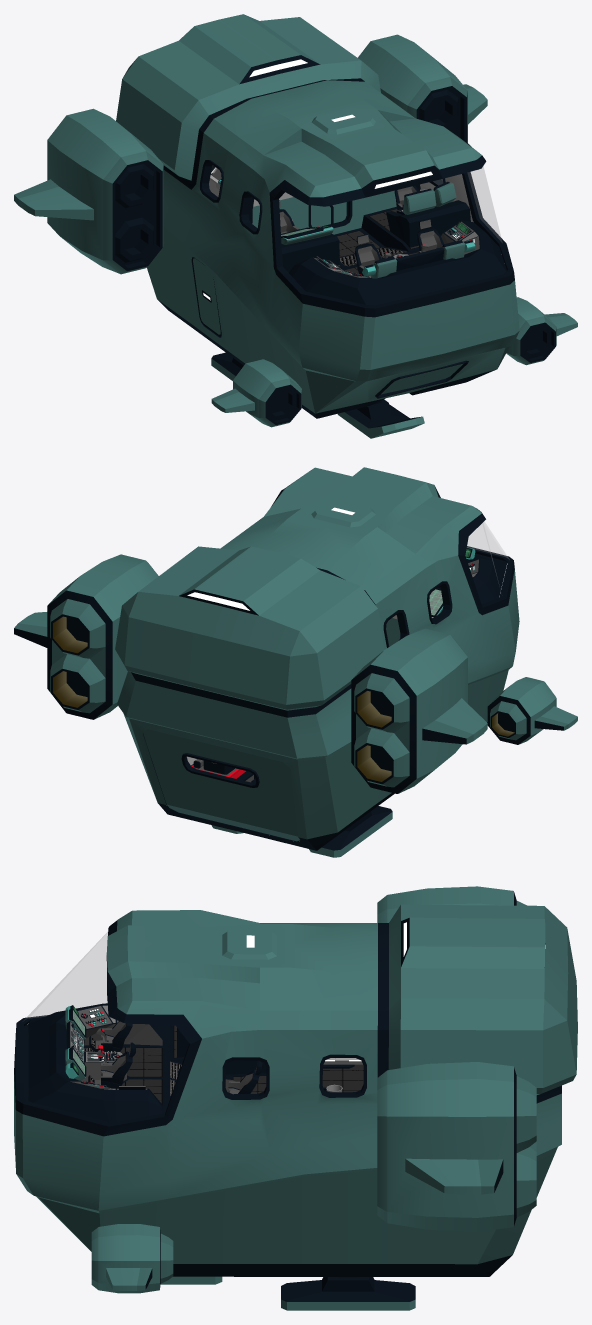
Rendered from zamboni-ship.glb.
The picture shows the model from 3 angles, top to bottom: view 1: azimuth 30°, elevation 25°; view 2: azimuth 150°, elevation 25°; view 3: azimuth 270°, elevation 25°; orthographic projection. The views are drawn at different scales.
Parts seen in each view (by area): view 1: Hull_Merged, Turbine Right, Dashboard Body, Turbine Left, Turbine.002, Dashboard Body.002, Turbine.001, Cube.002, Dashboard, Landing Gear Front, Side Door, Top Hatch Upper (+6 smaller); view 2: Hull_Merged, Turbine Right, Turbine Left, Cargo Ramp, Turbine.002, Landing Gear Back Right, Dashboard Body, Top Hatch Upper, Windshield; view 3: Hull_Merged, Turbine Left, Dashboard Body, Turbine.001, Landing Gear Back Left, Windshield, Turbine Right, Dashboard, Top Hatch Upper, Floor Top.001, Seat back left.
Part boxes in pixels (x1,y1,x2,y2): Hull_Merged: (116, 14, 519, 418); Turbine Right: (14, 108, 163, 274); Dashboard Body: (289, 207, 506, 305); Turbine Left: (358, 34, 487, 180); Turbine.002: (211, 359, 301, 427); Dashboard Body.002: (281, 186, 470, 272); Turbine.001: (506, 297, 577, 365); Cube.002: (248, 184, 420, 234); Dashboard: (316, 221, 475, 278); Landing Gear Front: (337, 399, 424, 438); Side Door: (192, 257, 221, 336); Top Hatch Upper: (311, 108, 375, 134); Hull_Merged: (115, 467, 519, 850); Turbine Right: (351, 628, 487, 793); Turbine Left: (14, 554, 158, 719); Cargo Ramp: (143, 729, 299, 841); Turbine.002: (487, 677, 577, 744); Landing Gear Back Right: (309, 806, 392, 857); Dashboard Body: (466, 553, 507, 604); Top Hatch Upper: (311, 500, 375, 527); Windshield: (467, 521, 509, 571); Hull_Merged: (14, 904, 577, 1276); Turbine Left: (377, 1062, 536, 1231); Dashboard Body: (23, 1003, 266, 1122); Turbine.001: (91, 1224, 173, 1293); Landing Gear Back Left: (281, 1277, 415, 1310); Windshield: (24, 932, 107, 1020); Turbine Right: (377, 886, 526, 922); Dashboard: (65, 1005, 145, 1089); Top Hatch Upper: (222, 928, 276, 959); Floor Top.001: (322, 1064, 363, 1092); Seat back left: (101, 1042, 135, 1084).
Bounding box in the file's own units: 10.7 × 6.5 × 9.71.
60 materials, 25 textured.
